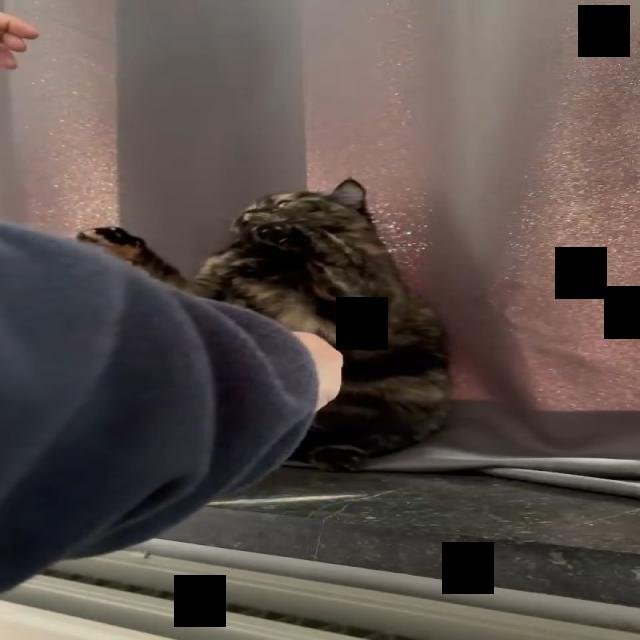authorized: (75, 177, 453, 472)
